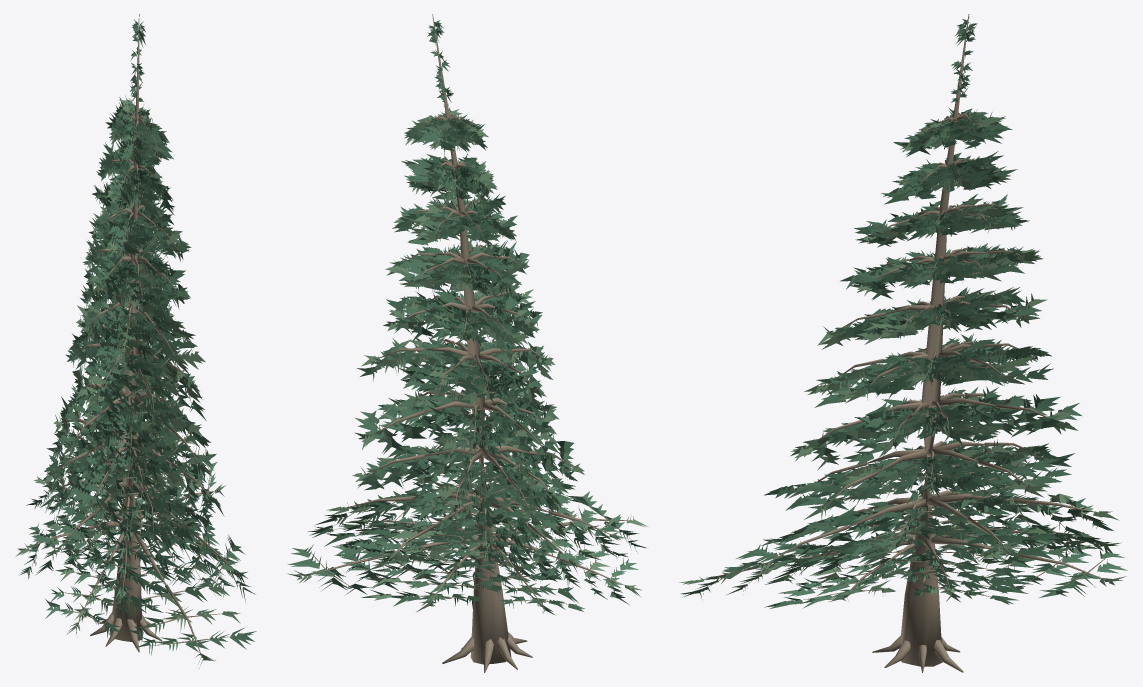
Rendered from cedar_1.glb.
3 renders of one model, left to right at view 1: azimuth 30°, elevation 25°; view 2: azimuth 150°, elevation 25°; view 3: azimuth 270°, elevation 25°, orthographic. The views are drawn at different scales.
Visible parts, largest first — view 1: tree_conifer_ConiferLeaf, tree_conifer_ConiferLeafLight, tree_conifer_ConiferLeafDark, tree_conifer_ConiferBark; view 2: tree_conifer_ConiferLeaf, tree_conifer_ConiferLeafLight, tree_conifer_ConiferBark, tree_conifer_ConiferLeafDark; view 3: tree_conifer_ConiferLeaf, tree_conifer_ConiferBark, tree_conifer_ConiferLeafLight, tree_conifer_ConiferLeafDark.
Part boxes in pixels (bbox=[...]): tree_conifer_ConiferLeaf: bbox=[20, 19, 256, 652]; tree_conifer_ConiferLeafLight: bbox=[15, 95, 247, 668]; tree_conifer_ConiferLeafDark: bbox=[24, 104, 255, 655]; tree_conifer_ConiferBark: bbox=[26, 14, 238, 657]; tree_conifer_ConiferLeaf: bbox=[287, 20, 638, 611]; tree_conifer_ConiferLeafLight: bbox=[287, 108, 648, 615]; tree_conifer_ConiferBark: bbox=[306, 14, 635, 672]; tree_conifer_ConiferLeafDark: bbox=[315, 119, 646, 610]; tree_conifer_ConiferLeaf: bbox=[681, 16, 1127, 608]; tree_conifer_ConiferBark: bbox=[702, 14, 1107, 672]; tree_conifer_ConiferLeafLight: bbox=[679, 109, 1125, 601]; tree_conifer_ConiferLeafDark: bbox=[739, 114, 1108, 608].
Bounding box in the file's own units: 6.91 × 16.75 × 10.3.
